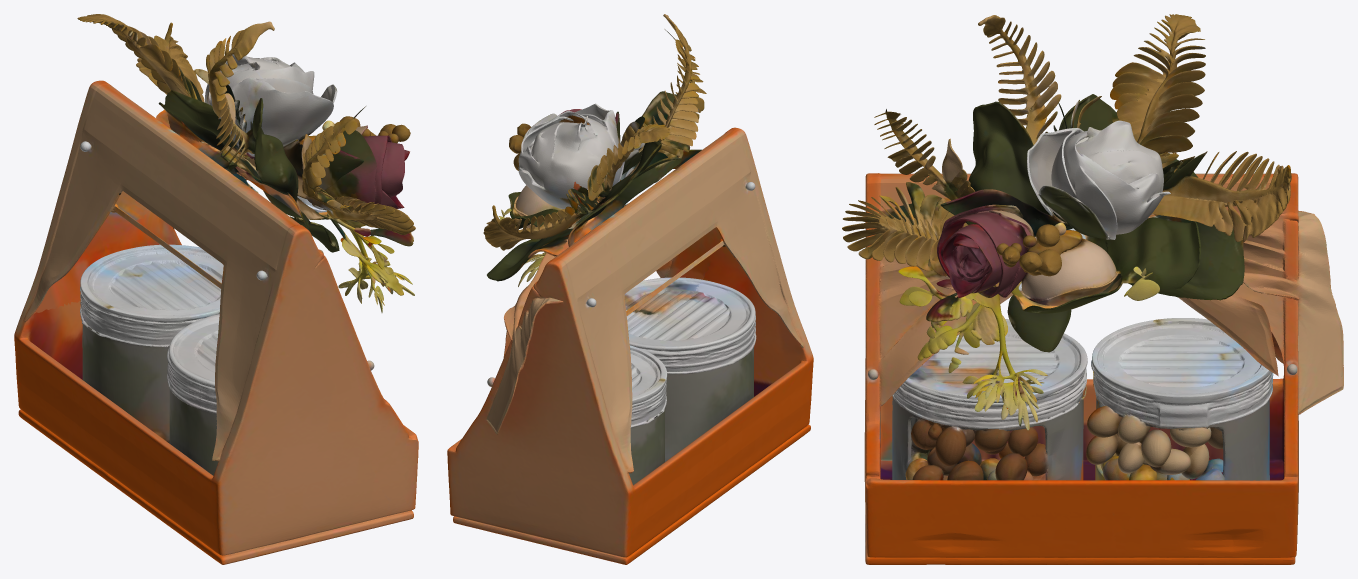
3 renders of one model, left to right at view 1: azimuth 30°, elevation 25°; view 2: azimuth 150°, elevation 25°; view 3: azimuth 270°, elevation 25°, orthographic. The views are drawn at different scales.
Parts seen in each view (by area): view 1: tripo_node_28934e95-6f2f-4907-a3a2-f6a96c597d82; view 2: tripo_node_28934e95-6f2f-4907-a3a2-f6a96c597d82; view 3: tripo_node_28934e95-6f2f-4907-a3a2-f6a96c597d82.
Boxes of the visible parts, x1,y1,x2,y2 form: tripo_node_28934e95-6f2f-4907-a3a2-f6a96c597d82: (14,14,418,564); tripo_node_28934e95-6f2f-4907-a3a2-f6a96c597d82: (447,14,813,564); tripo_node_28934e95-6f2f-4907-a3a2-f6a96c597d82: (842,14,1343,564).
Bounding box in the file's own units: 0.5706 × 1 × 0.9054.
1 material, 1 textured.
